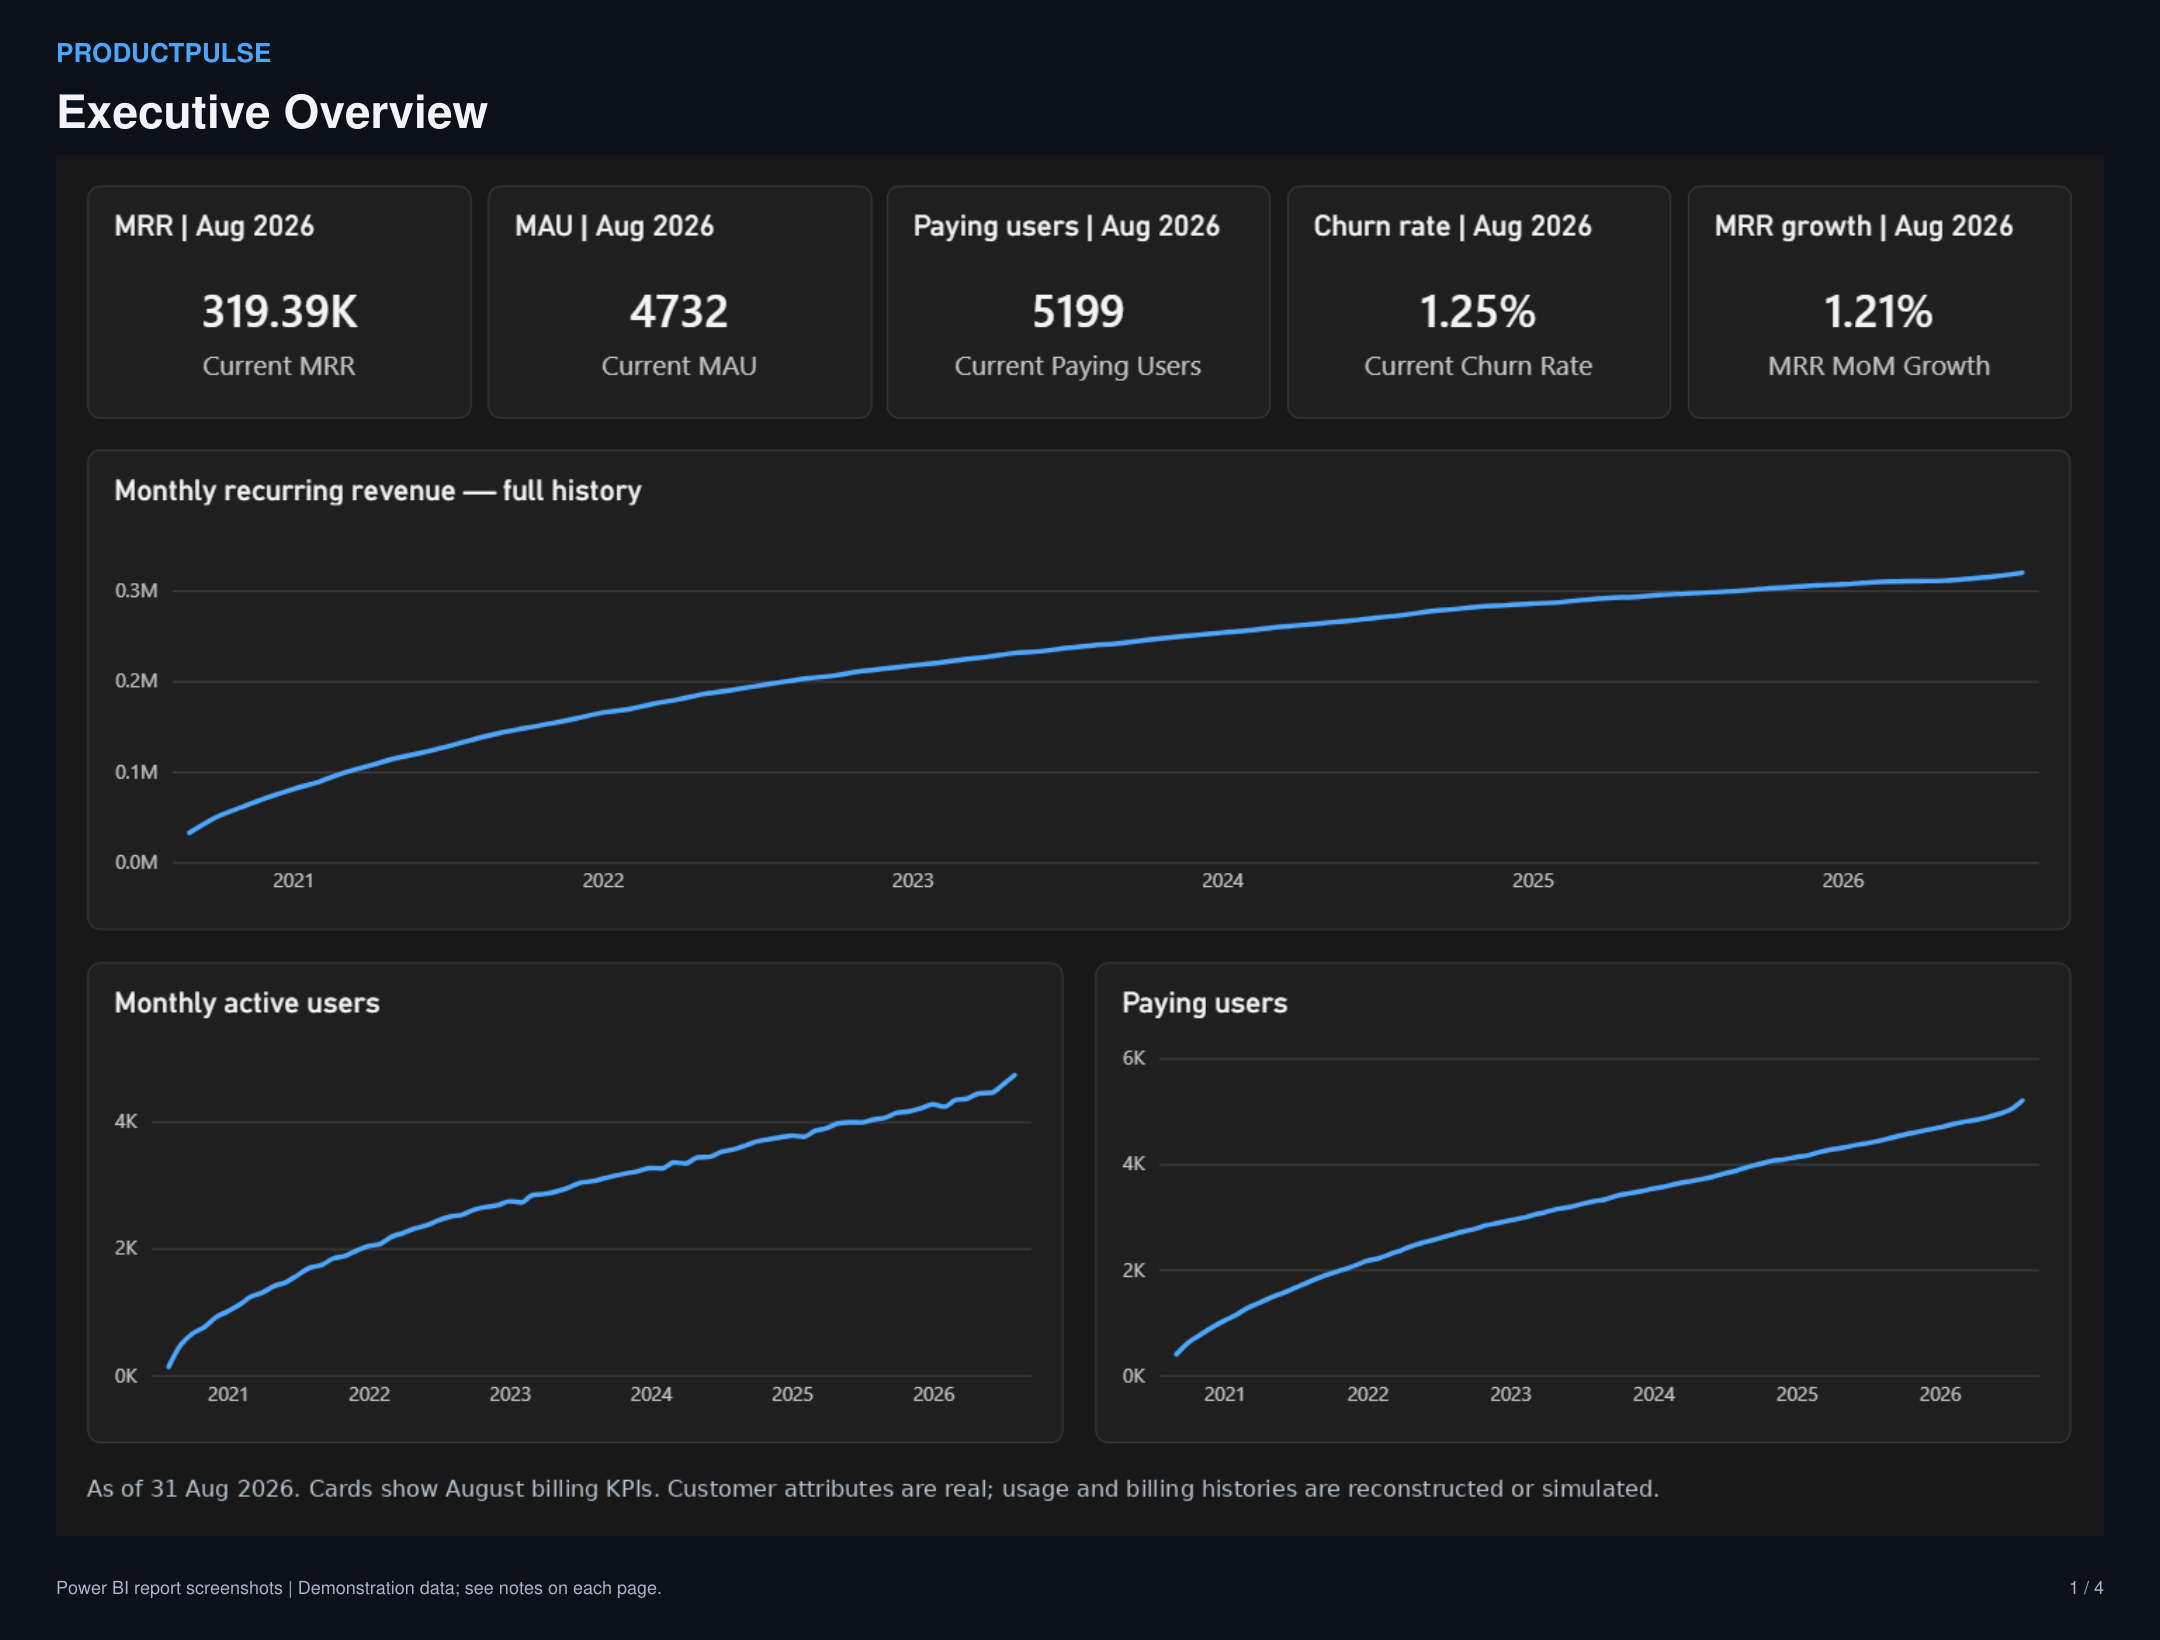

The dashboard page shown, as its layout file describes it:
{"tool":"powerbi","page":{"name":"Executive Overview","canvas":[1280,900],"ordinal":0},"visuals":[{"type":"card","title":"MRR | Aug 2026","fields":{"Values":["Current MRR"]},"box":[20,20,240,145],"z":0},{"type":"card","title":"MAU | Aug 2026","fields":{"Values":["Current MAU"]},"box":[270,20,240,145],"z":1},{"type":"card","title":"Paying users | Aug 2026","fields":{"Values":["Current Paying Users"]},"box":[520,20,240,145],"z":2},{"type":"card","title":"Churn rate | Aug 2026","fields":{"Values":["Current Churn Rate"]},"box":[770,20,240,145],"z":3},{"type":"card","title":"MRR growth | Aug 2026","fields":{"Values":["MRR MoM Growth"]},"box":[1020,20,240,145],"z":4},{"type":"lineChart","title":"Monthly recurring revenue — full history","fields":{"Category":["month"],"Y":["mrr"]},"box":[20,185,1240,300],"z":5},{"type":"lineChart","title":"Monthly active users","fields":{"Category":["month"],"Y":["mau"]},"box":[20,505,610,300],"z":6},{"type":"lineChart","title":"Paying users","fields":{"Category":["month"],"Y":["paying_users"]},"box":[650,505,610,300],"z":7},{"type":"textbox","box":[20,820,1240,65],"z":50}]}

Visuals, with their boxes on the page's 1280x900 design canvas (x1, y1, x2, y2). These are canvas units, not pixel positions in the 2160x1640 screenshot, which may show the page scaled, cropped or inside an application window:
"MRR | Aug 2026" card: <region>20, 20, 260, 165</region>
"MAU | Aug 2026" card: <region>270, 20, 510, 165</region>
"Paying users | Aug 2026" card: <region>520, 20, 760, 165</region>
"Churn rate | Aug 2026" card: <region>770, 20, 1010, 165</region>
"MRR growth | Aug 2026" card: <region>1020, 20, 1260, 165</region>
"Monthly recurring revenue — full history" lineChart: <region>20, 185, 1260, 485</region>
"Monthly active users" lineChart: <region>20, 505, 630, 805</region>
"Paying users" lineChart: <region>650, 505, 1260, 805</region>
textbox: <region>20, 820, 1260, 885</region>
